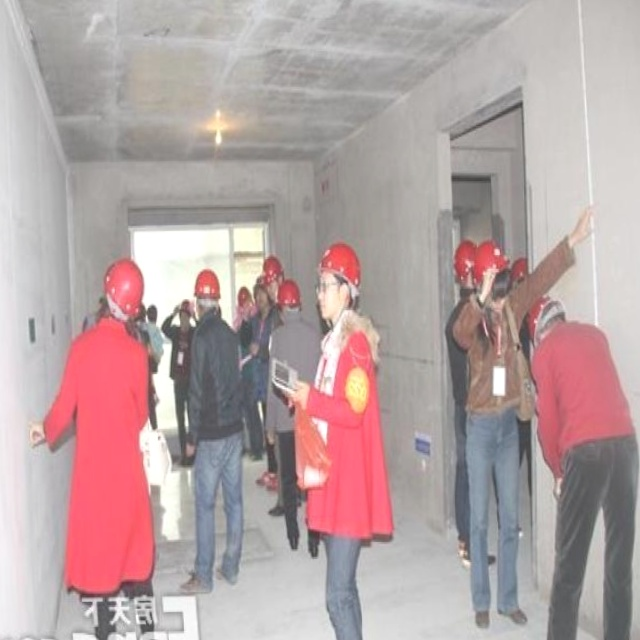Con_Casco: (313, 242, 363, 323), (102, 256, 143, 321)
